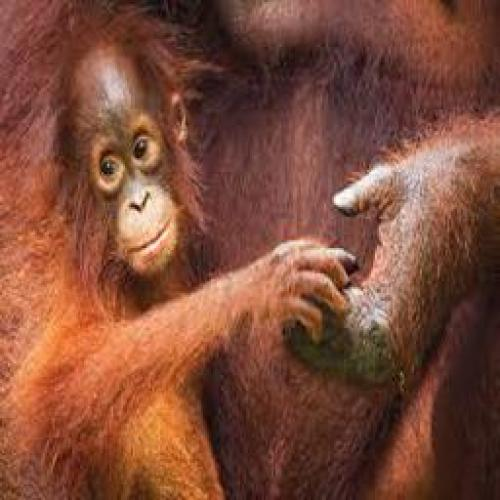orangutan-endangered: (22, 29, 321, 499)
